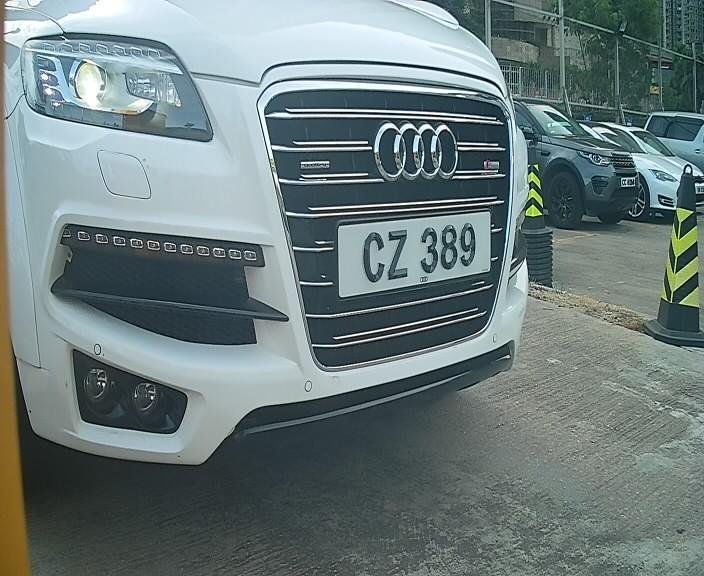privatecar: (7, 8, 557, 471)
